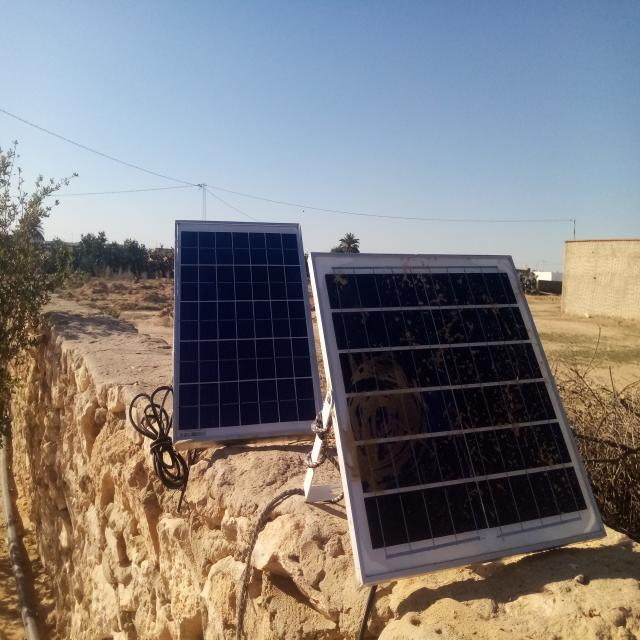faulty: (311, 253, 608, 584)
no faulty: (175, 221, 319, 443)
